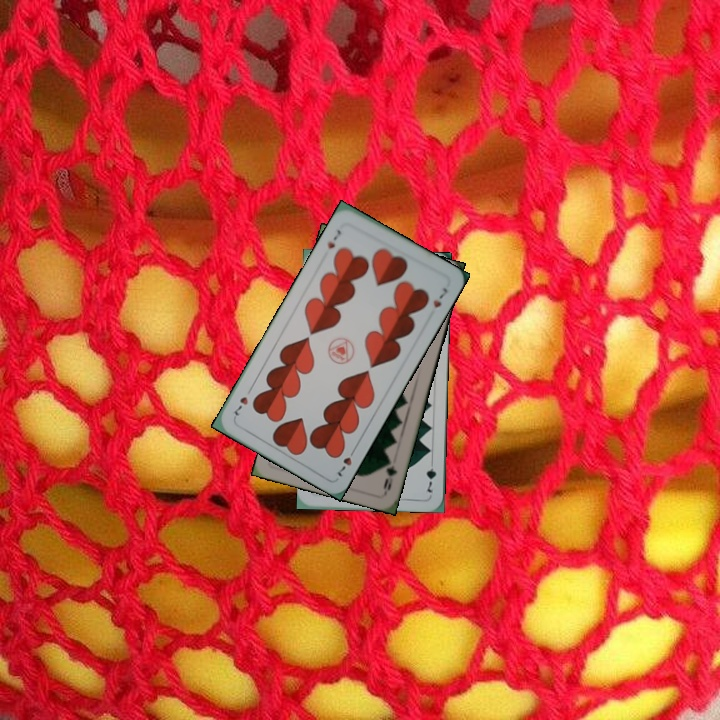G7: (422, 456, 439, 495)
G9: (379, 455, 400, 493)
H7: (332, 443, 359, 480), (323, 226, 344, 251)
